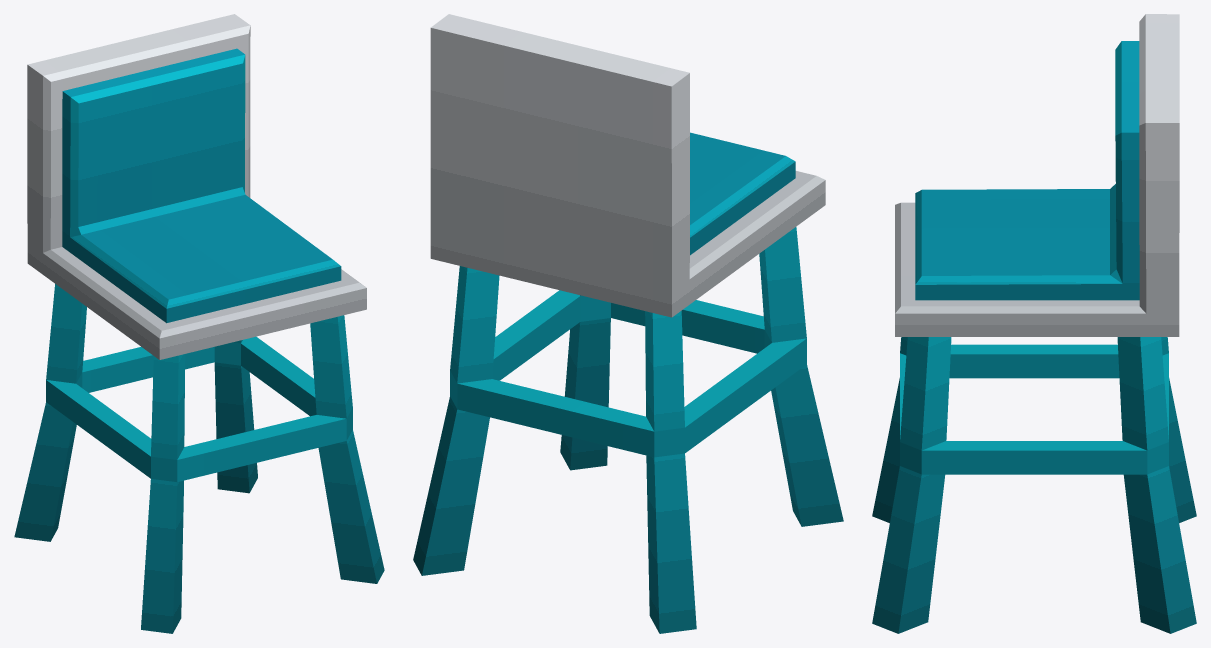
File: BalconyChair.fbx
The picture shows the model from 3 angles, left to right: view 1: azimuth 30°, elevation 25°; view 2: azimuth 150°, elevation 25°; view 3: azimuth 270°, elevation 25°; orthographic projection. The views are drawn at different scales.
Parts seen in each view (by area): view 1: BalconyChair_v1; view 2: BalconyChair_v1; view 3: BalconyChair_v1.
Part boxes in pixels (x1,y1,x2,y2): BalconyChair_v1: [14, 14, 384, 633]; BalconyChair_v1: [413, 14, 843, 633]; BalconyChair_v1: [872, 14, 1196, 633].
Bounding box in the file's own units: 73.52 × 134 × 78.81.
